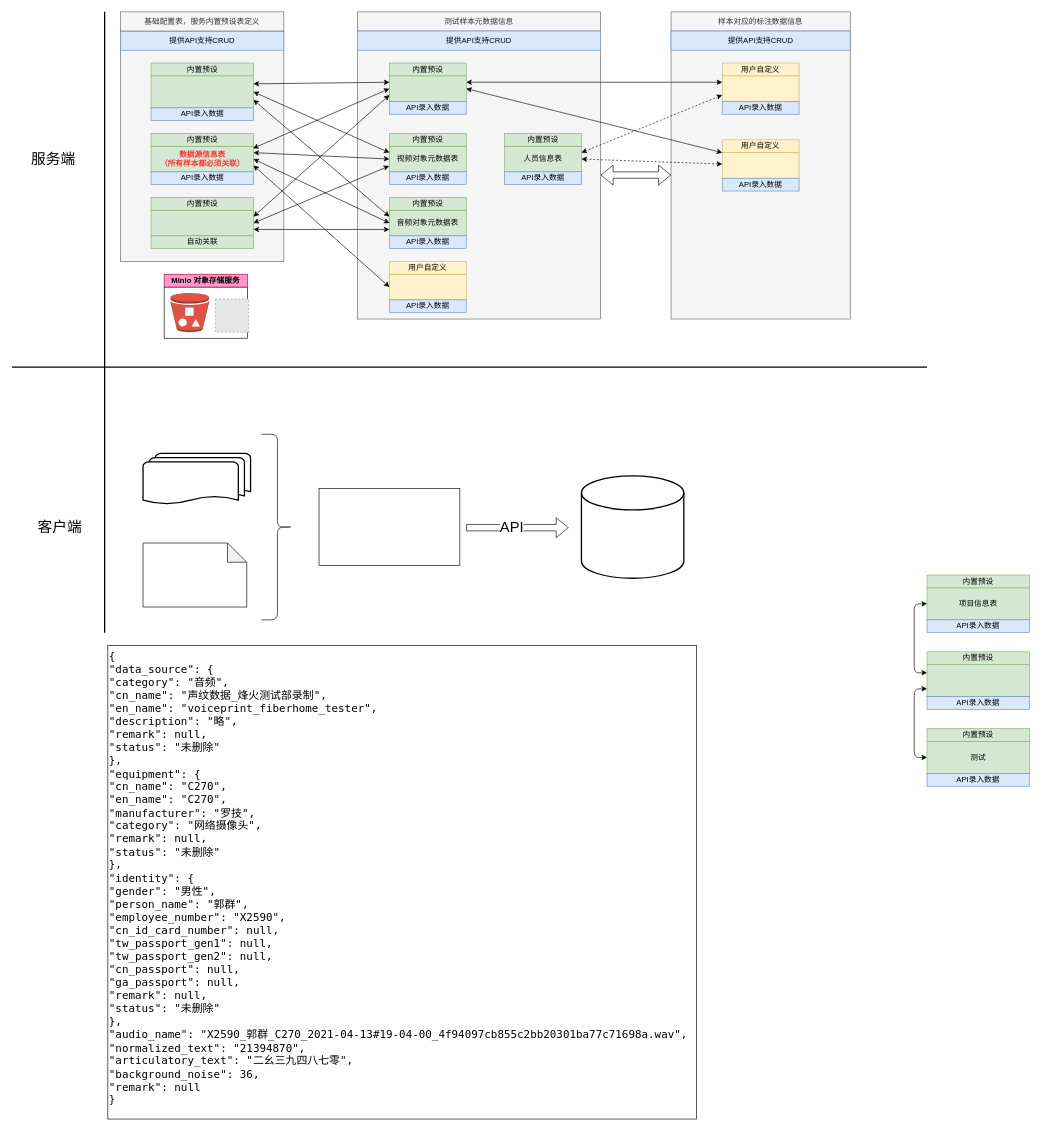
Some shapes in this 1041 by 1130 pixel diagram are drawn without their labels. Grey dashed boxes stand in for pictures. The shapes that lost their labels are listed below. From the top down, each one's centre as x and y in pixels, then its label:
the point at 201,91: 设备信息表 （测试样本的采集设备）
the point at 427,88: 图片对象元数据表
the point at 760,88: 图片标注信息表
the point at 760,165: 音频标注信息表
the point at 201,223: 对象存储服务信息 （音频、图片、视频等文件）
the point at 427,287: 自定义文本元数据表
the point at 196,478: 文件对象
the point at 389,526: 客户端cli
the point at 194,574: 标注数据 jsonline文件
the point at 977,680: 任务信息表
